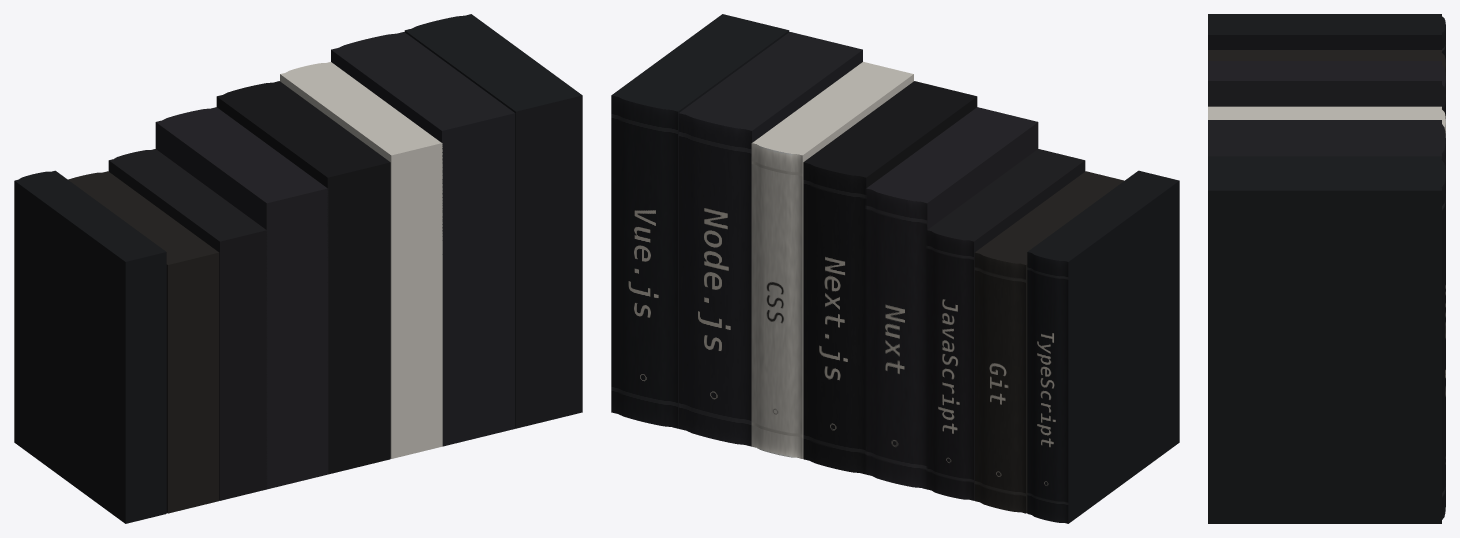
The model's file is books.glb.
The picture shows the model from 3 angles, left to right: view 1: azimuth 30°, elevation 25°; view 2: azimuth 150°, elevation 25°; view 3: azimuth 270°, elevation 25°; orthographic projection. The views are drawn at different scales.
Parts seen in each view (by area): view 1: book_7, book_1, book_0, book_4, book_3, book_2, book_5, book_6; view 2: book_7, book_1, book_0, book_4, book_3, book_2, book_5, book_6; view 3: book_0, book_1, book_7, book_3, book_4, book_2, book_6.
Boxes of the visible parts, x1,y1,x2,y2 form: book_7: [14, 170, 166, 523]; book_1: [331, 32, 515, 446]; book_0: [404, 14, 582, 428]; book_4: [155, 107, 328, 489]; book_3: [216, 81, 390, 474]; book_2: [280, 62, 442, 458]; book_5: [108, 149, 267, 500]; book_6: [68, 171, 219, 513]; book_7: [1027, 170, 1179, 523]; book_1: [678, 32, 862, 446]; book_0: [611, 14, 789, 428]; book_4: [865, 107, 1038, 489]; book_3: [803, 81, 977, 474]; book_2: [751, 61, 913, 458]; book_5: [926, 149, 1085, 500]; book_6: [974, 171, 1124, 513]; book_0: [1208, 156, 1445, 523]; book_1: [1208, 120, 1445, 172]; book_7: [1208, 14, 1445, 62]; book_3: [1208, 81, 1445, 118]; book_4: [1208, 61, 1445, 96]; book_2: [1208, 106, 1445, 137]; book_6: [1208, 50, 1445, 75].
Size of the model in its own units: 0.356 by 0.236 by 0.1525.
Materials: 9 (1 with a texture image).
